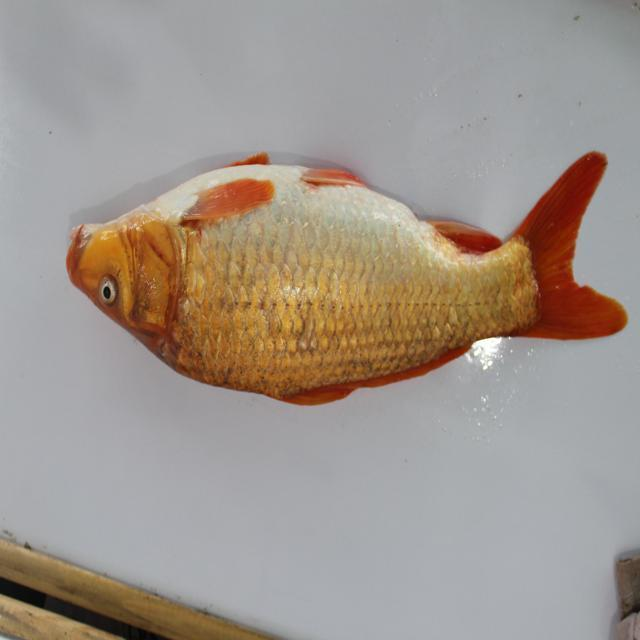Gold Fish: (67, 161, 631, 421)
